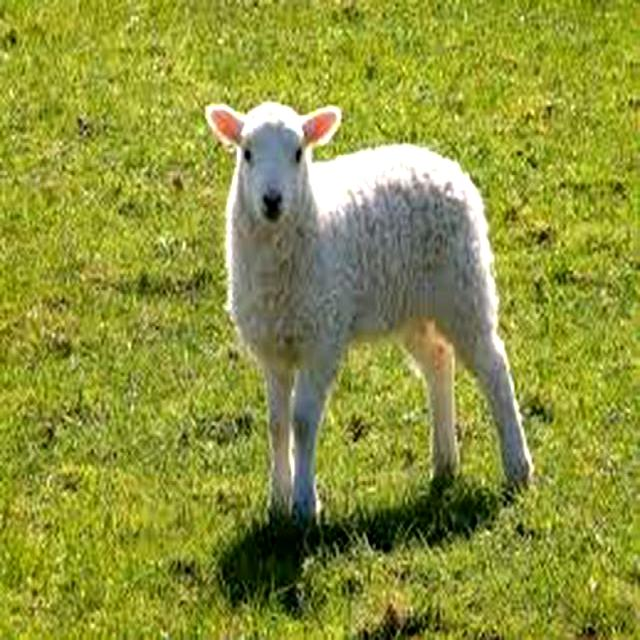sheep: (208, 101, 533, 525)
